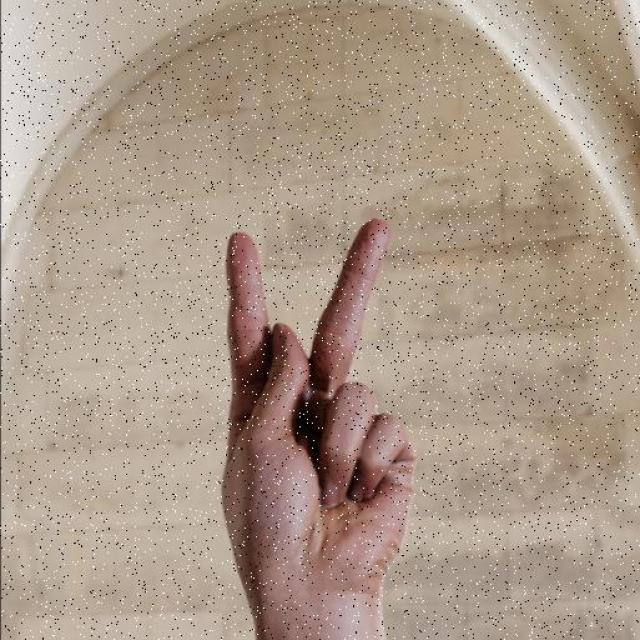K: (205, 211, 423, 631)
